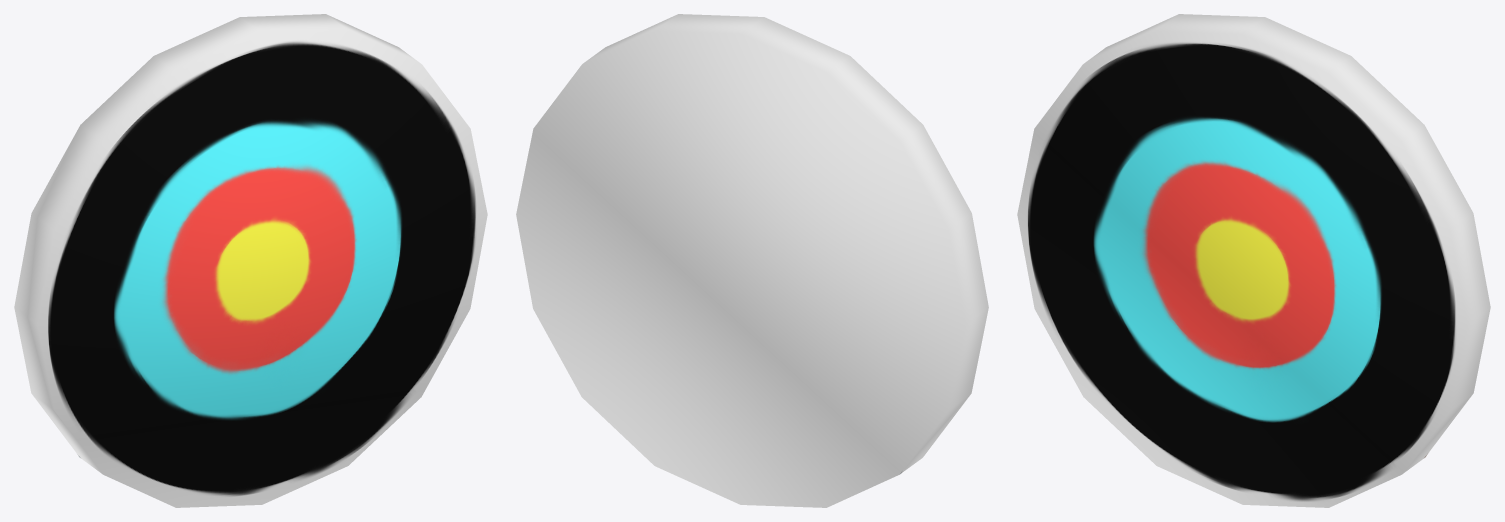
Rendered from arrowTarget.glb.
3 renders of one model, left to right at view 1: azimuth 30°, elevation 25°; view 2: azimuth 150°, elevation 25°; view 3: azimuth 330°, elevation 25°, orthographic.
Parts seen in each view (by area): view 1: targetObject; view 2: targetObject; view 3: targetObject.
Boxes of the visible parts, box(x1,y1,x2,y2) form: targetObject: box(14, 14, 487, 507); targetObject: box(516, 14, 988, 507); targetObject: box(1017, 14, 1490, 507).
Size of the model in its own units: 0.575 by 0.5751 by 0.0531.
Materials: 1 (1 with a texture image).
